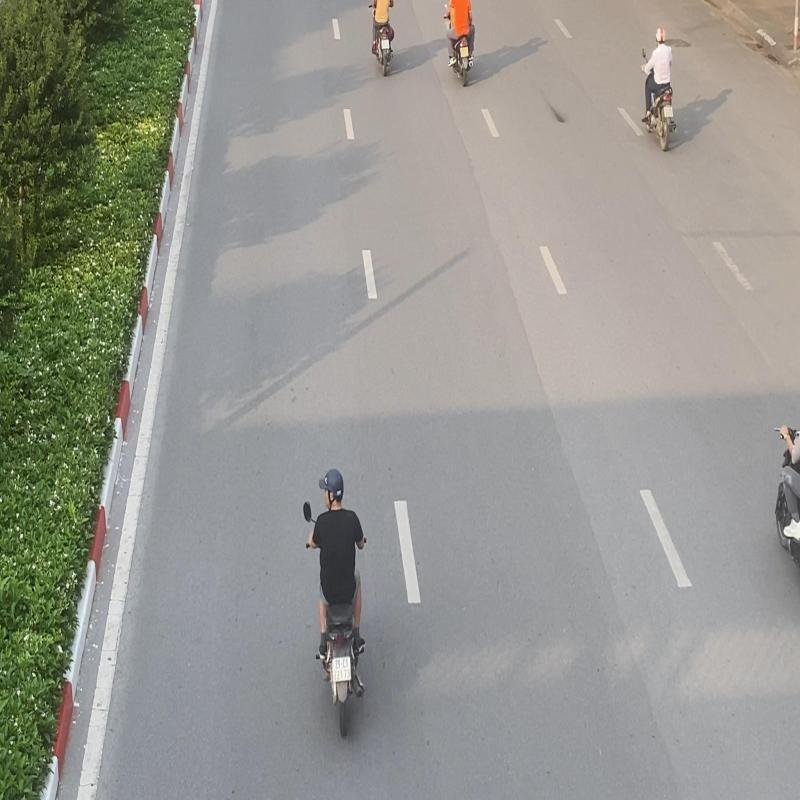helmet: (318, 468, 344, 508), (656, 27, 666, 45)
licenseplate: (331, 654, 351, 682), (664, 106, 674, 118)
motorcyclist: (300, 466, 368, 740), (640, 26, 678, 152)
